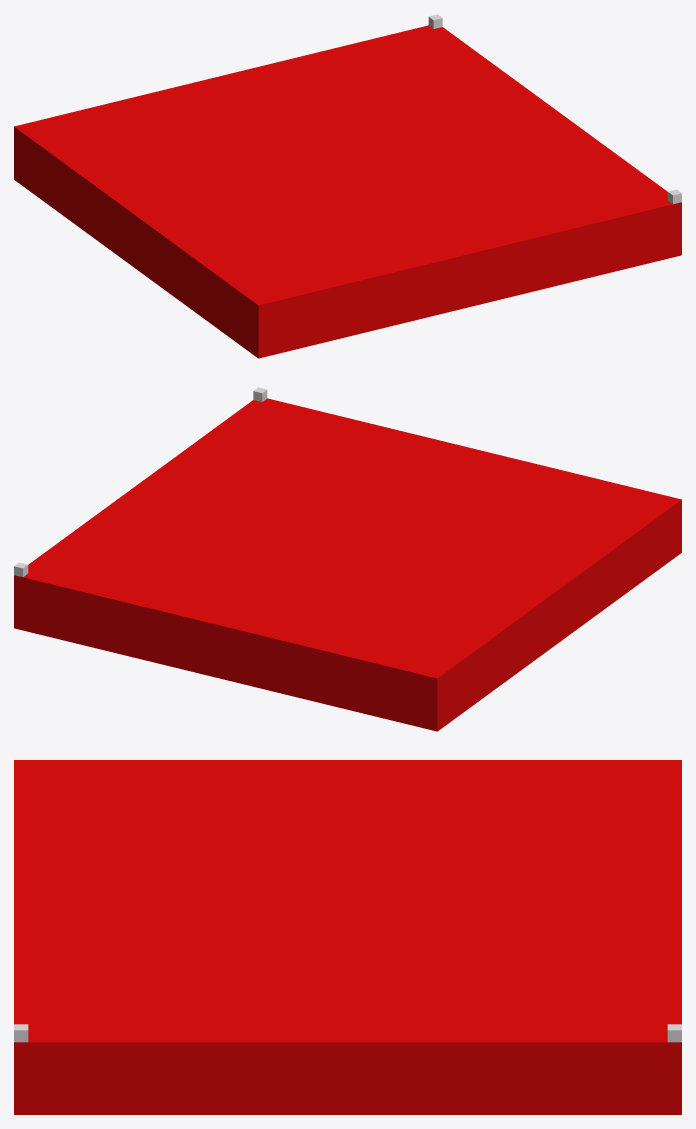
The model's file is 2corner.glb.
3 renders of one model, top to bottom at view 1: azimuth 30°, elevation 25°; view 2: azimuth 150°, elevation 25°; view 3: azimuth 270°, elevation 25°, orthographic. The views are drawn at different scales.
Parts seen in each view (by area): view 1: 2corner; view 2: 2corner; view 3: 2corner.
Boxes of the visible parts, <box> form: 2corner: <box>14,25,681,358</box>; 2corner: <box>14,398,681,731</box>; 2corner: <box>14,760,681,1114</box>.
Bounding box in the file's own units: 1 × 0.14 × 1.
